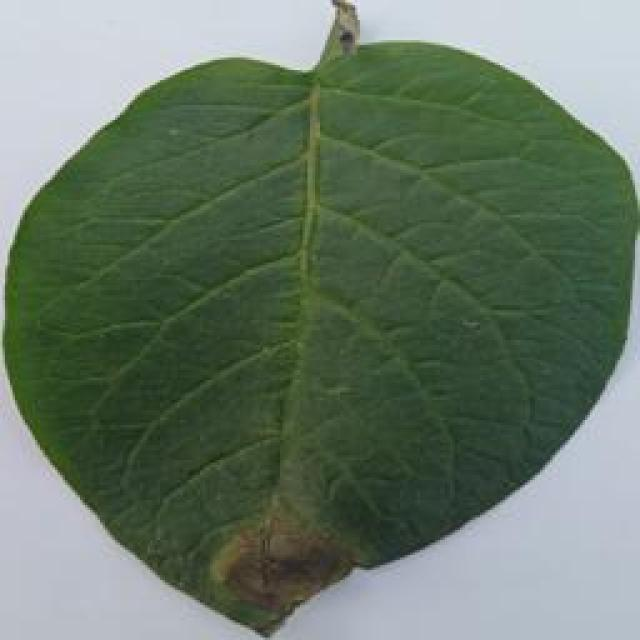Potato_Late_Blight: (6, 12, 628, 640)
